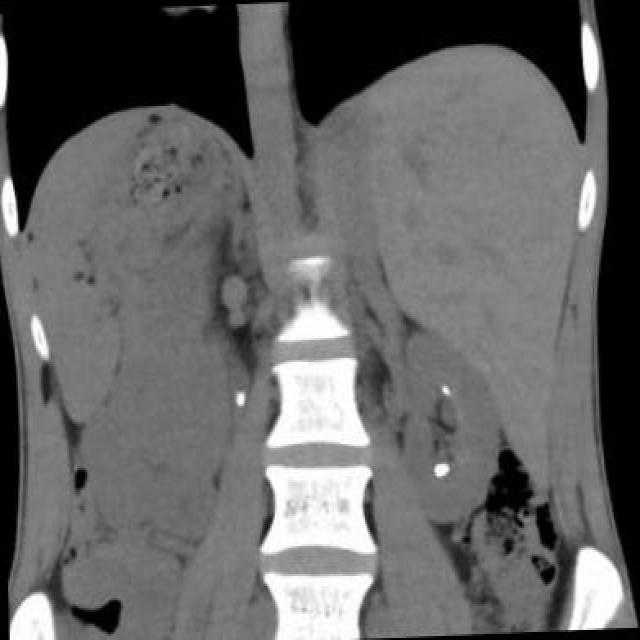Tas_Var: (428, 457, 456, 481), (228, 383, 253, 409), (440, 384, 448, 390), (443, 391, 451, 397)
